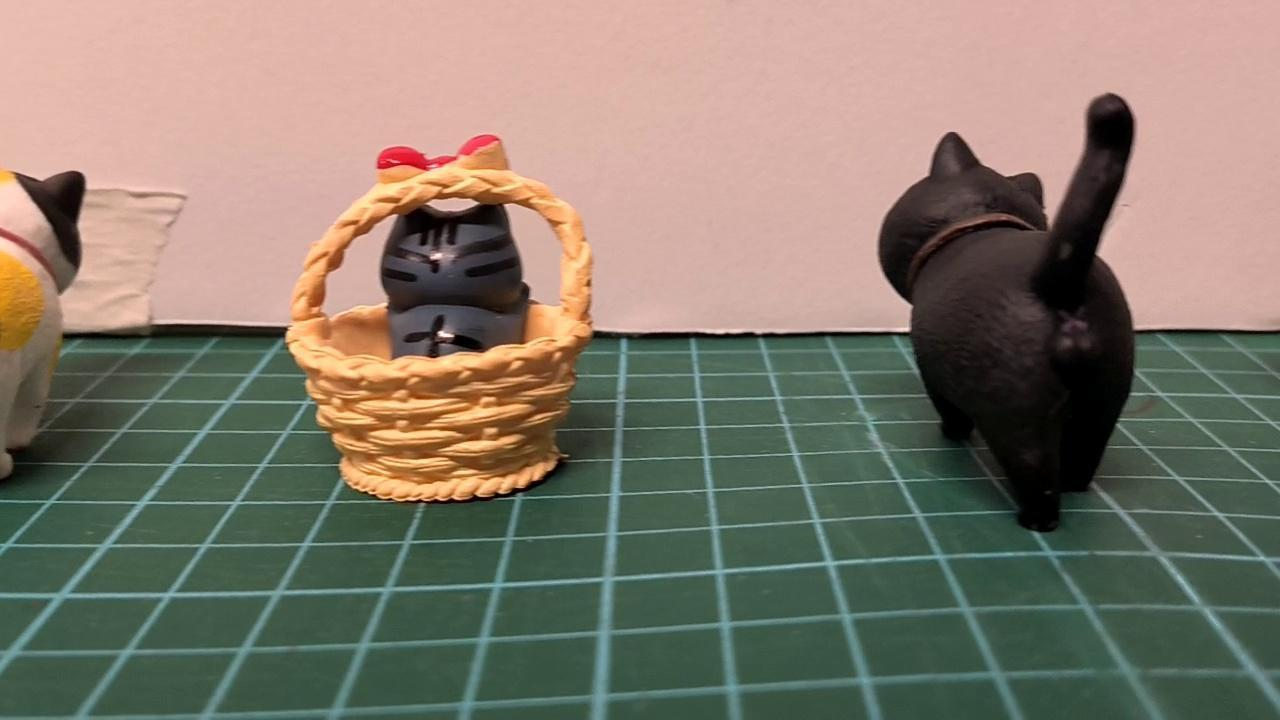pet: (861, 82, 1148, 545), (378, 191, 534, 365)
